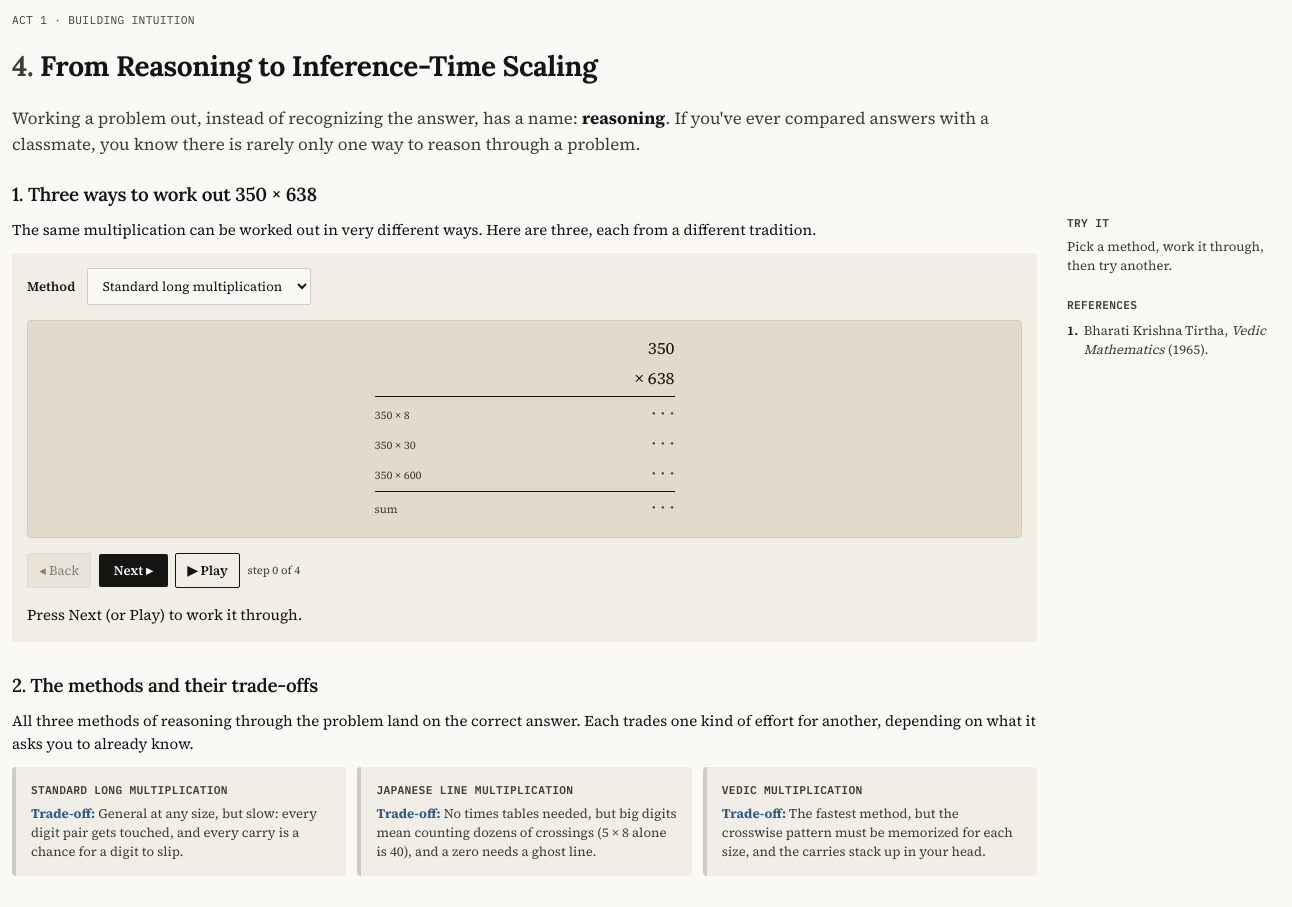
Test: Page 4 animated Play (no reduced motion) › pressing Next mid-play takes over from the auto-advance
Step 1. Click the button "▶ Play" → click(208, 570), box [175,552,240,588]
Wait 920 ms
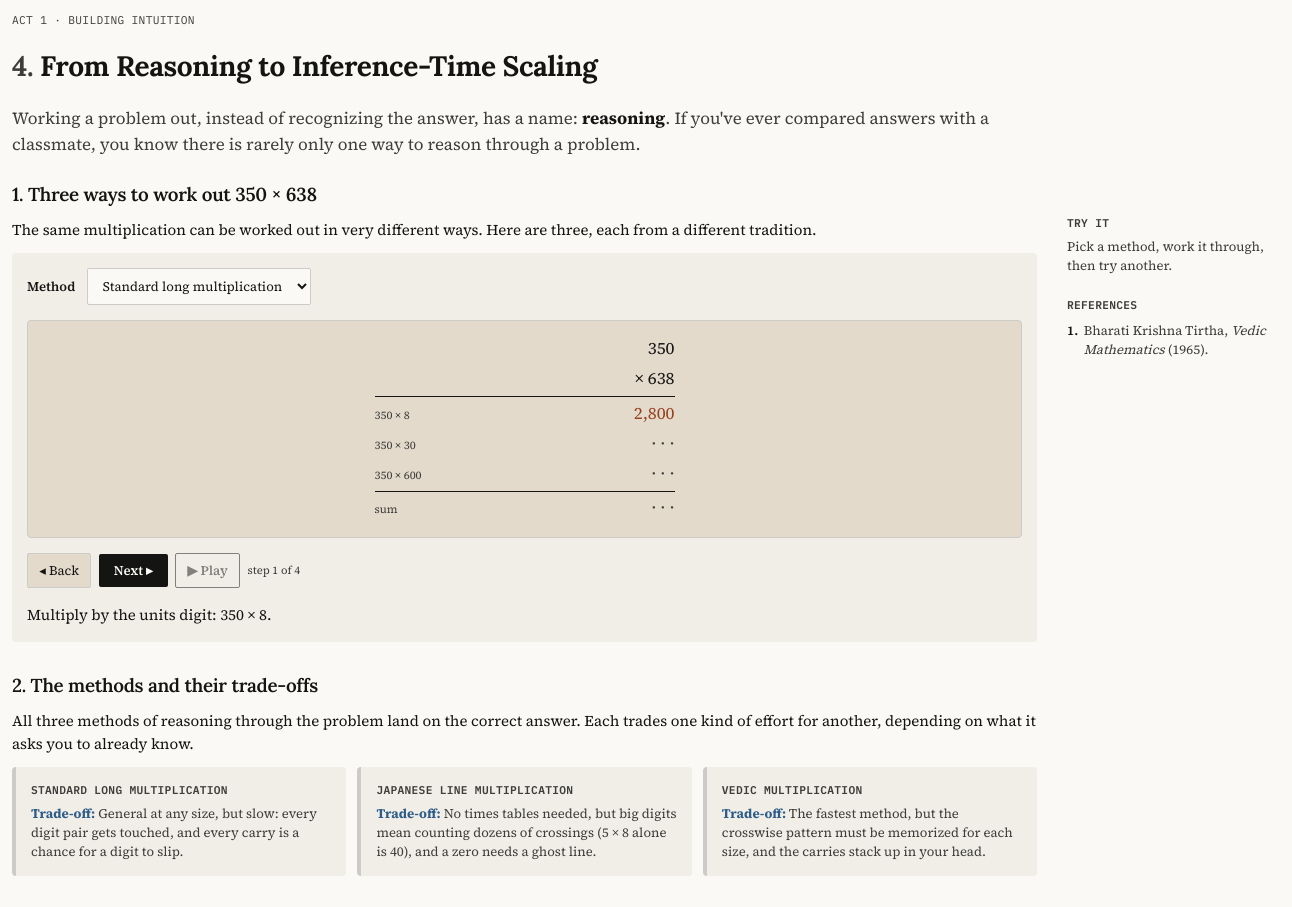
Now the text "step 1 of 4" is shown, box [248,563,300,578]
Step 2. Click the button "Next ▸" → click(133, 570), box [99,554,168,587]
Wait 3000 ms
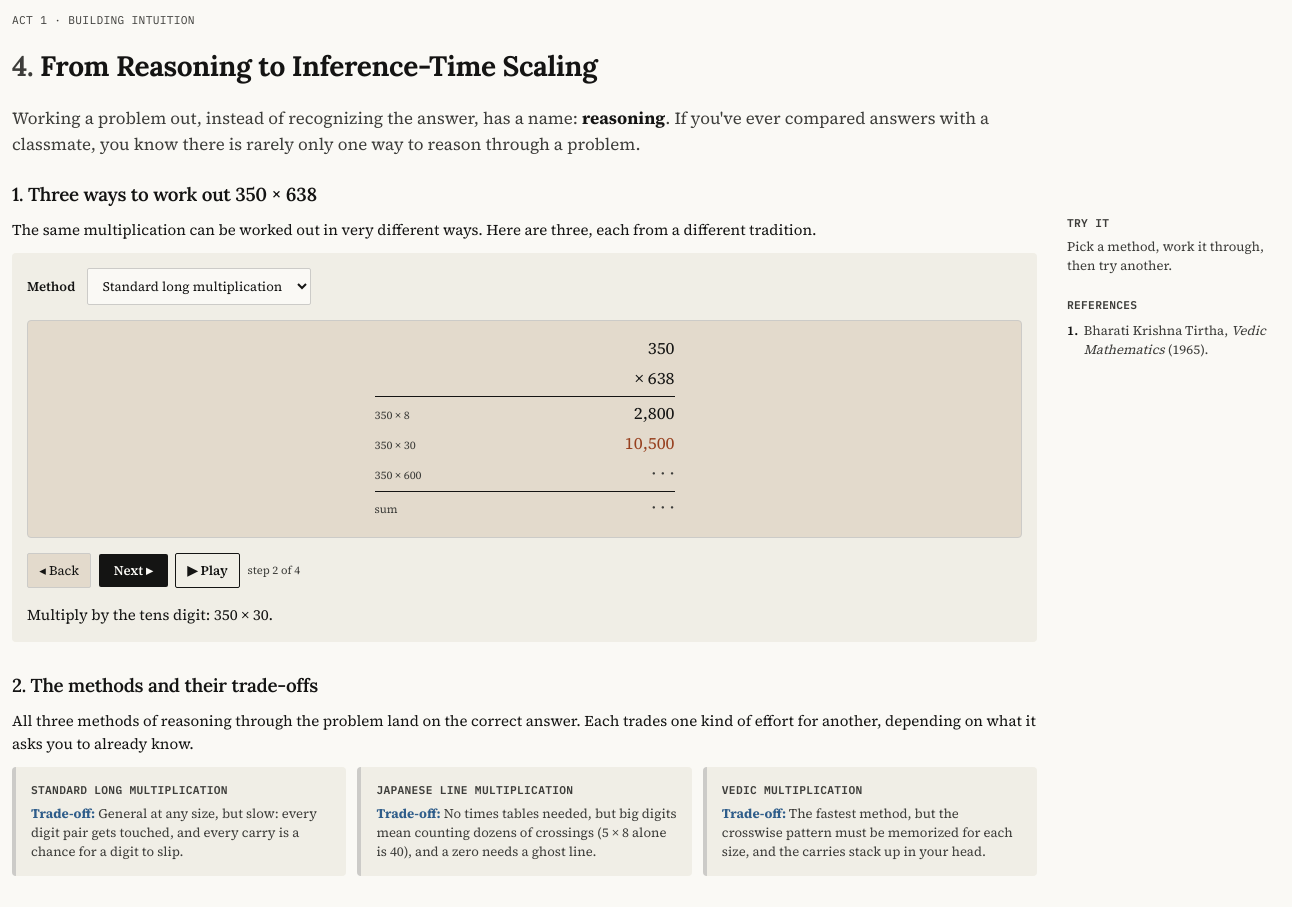
Now the text "step 2 of 4" is shown, box [248,563,300,578]
